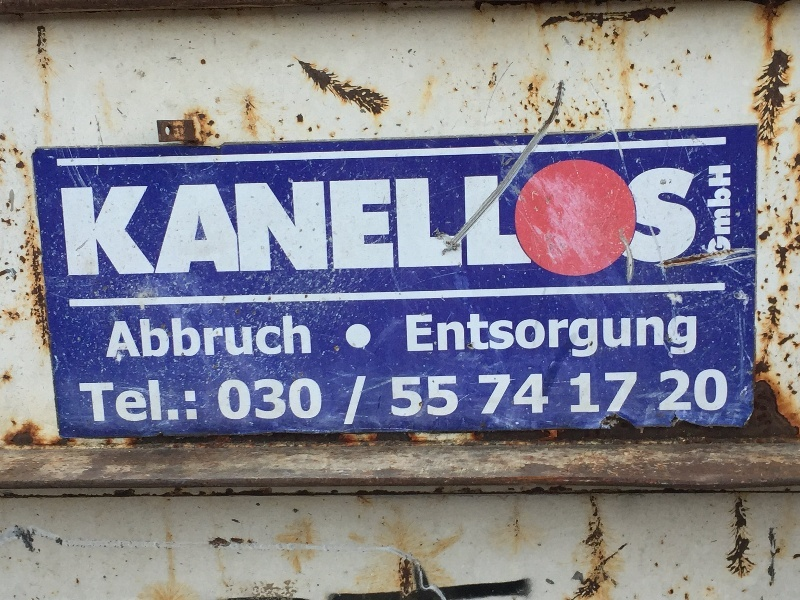text: (65, 155, 80, 281), (81, 155, 96, 281), (97, 155, 112, 281), (113, 155, 128, 281), (129, 155, 144, 281), (145, 155, 160, 281), (161, 155, 176, 281), (177, 155, 192, 281), (193, 155, 208, 281), (209, 155, 224, 281), (225, 155, 240, 281), (241, 155, 256, 281), (257, 155, 272, 281), (273, 155, 288, 281), (289, 155, 304, 281), (305, 155, 320, 281), (321, 155, 336, 281), (337, 155, 352, 281), (353, 155, 368, 281), (369, 155, 384, 281), (385, 155, 400, 281), (401, 155, 416, 281), (417, 155, 432, 281), (433, 155, 448, 281), (449, 155, 464, 281), (465, 155, 480, 281), (481, 155, 496, 281), (497, 155, 512, 281), (513, 155, 528, 281), (529, 155, 544, 281), (545, 155, 560, 281), (561, 155, 576, 281), (577, 155, 592, 281), (593, 155, 608, 281), (609, 155, 624, 281), (625, 155, 640, 281), (641, 155, 656, 281), (657, 155, 672, 281), (673, 155, 688, 281), (707, 161, 720, 265), (721, 161, 733, 265), (689, 155, 697, 281), (353, 374, 368, 427), (58, 155, 64, 281), (129, 314, 144, 362), (145, 314, 160, 362), (161, 314, 176, 362), (177, 314, 192, 362), (193, 314, 208, 362), (209, 314, 224, 362), (225, 314, 240, 362), (241, 314, 256, 362), (257, 314, 272, 362), (273, 314, 288, 362), (289, 314, 304, 362), (225, 376, 240, 422), (241, 376, 256, 422), (257, 376, 272, 422), (273, 376, 288, 422), (289, 376, 304, 422), (305, 376, 320, 422), (673, 368, 688, 413), (689, 368, 704, 413), (705, 368, 720, 413), (114, 314, 128, 362), (417, 314, 432, 358), (433, 314, 448, 358), (449, 314, 464, 358), (465, 314, 480, 358), (481, 314, 496, 358), (497, 314, 512, 358), (513, 314, 528, 358), (529, 314, 544, 358), (545, 314, 560, 358), (561, 314, 576, 358), (577, 314, 592, 358), (593, 314, 608, 358), (609, 314, 624, 358), (625, 314, 640, 358), (641, 314, 656, 358), (657, 314, 672, 358), (673, 314, 688, 358), (81, 379, 96, 423), (97, 379, 112, 423), (113, 379, 128, 423), (129, 379, 144, 423), (145, 379, 160, 423), (161, 379, 176, 423), (177, 379, 192, 423), (401, 375, 416, 419), (417, 375, 432, 419), (433, 375, 448, 419), (481, 372, 496, 416), (497, 372, 512, 416), (513, 372, 528, 416), (529, 372, 544, 416), (577, 371, 592, 415), (593, 371, 608, 415), (609, 371, 624, 415), (625, 371, 640, 415), (660, 368, 672, 413), (405, 314, 416, 358), (449, 375, 460, 419), (305, 314, 315, 362), (721, 368, 730, 413), (689, 314, 698, 358), (391, 375, 400, 419), (193, 379, 200, 423), (569, 371, 576, 415), (218, 376, 224, 422), (545, 372, 550, 416), (477, 372, 480, 416), (321, 376, 323, 422), (78, 379, 80, 423), (641, 371, 643, 415)
